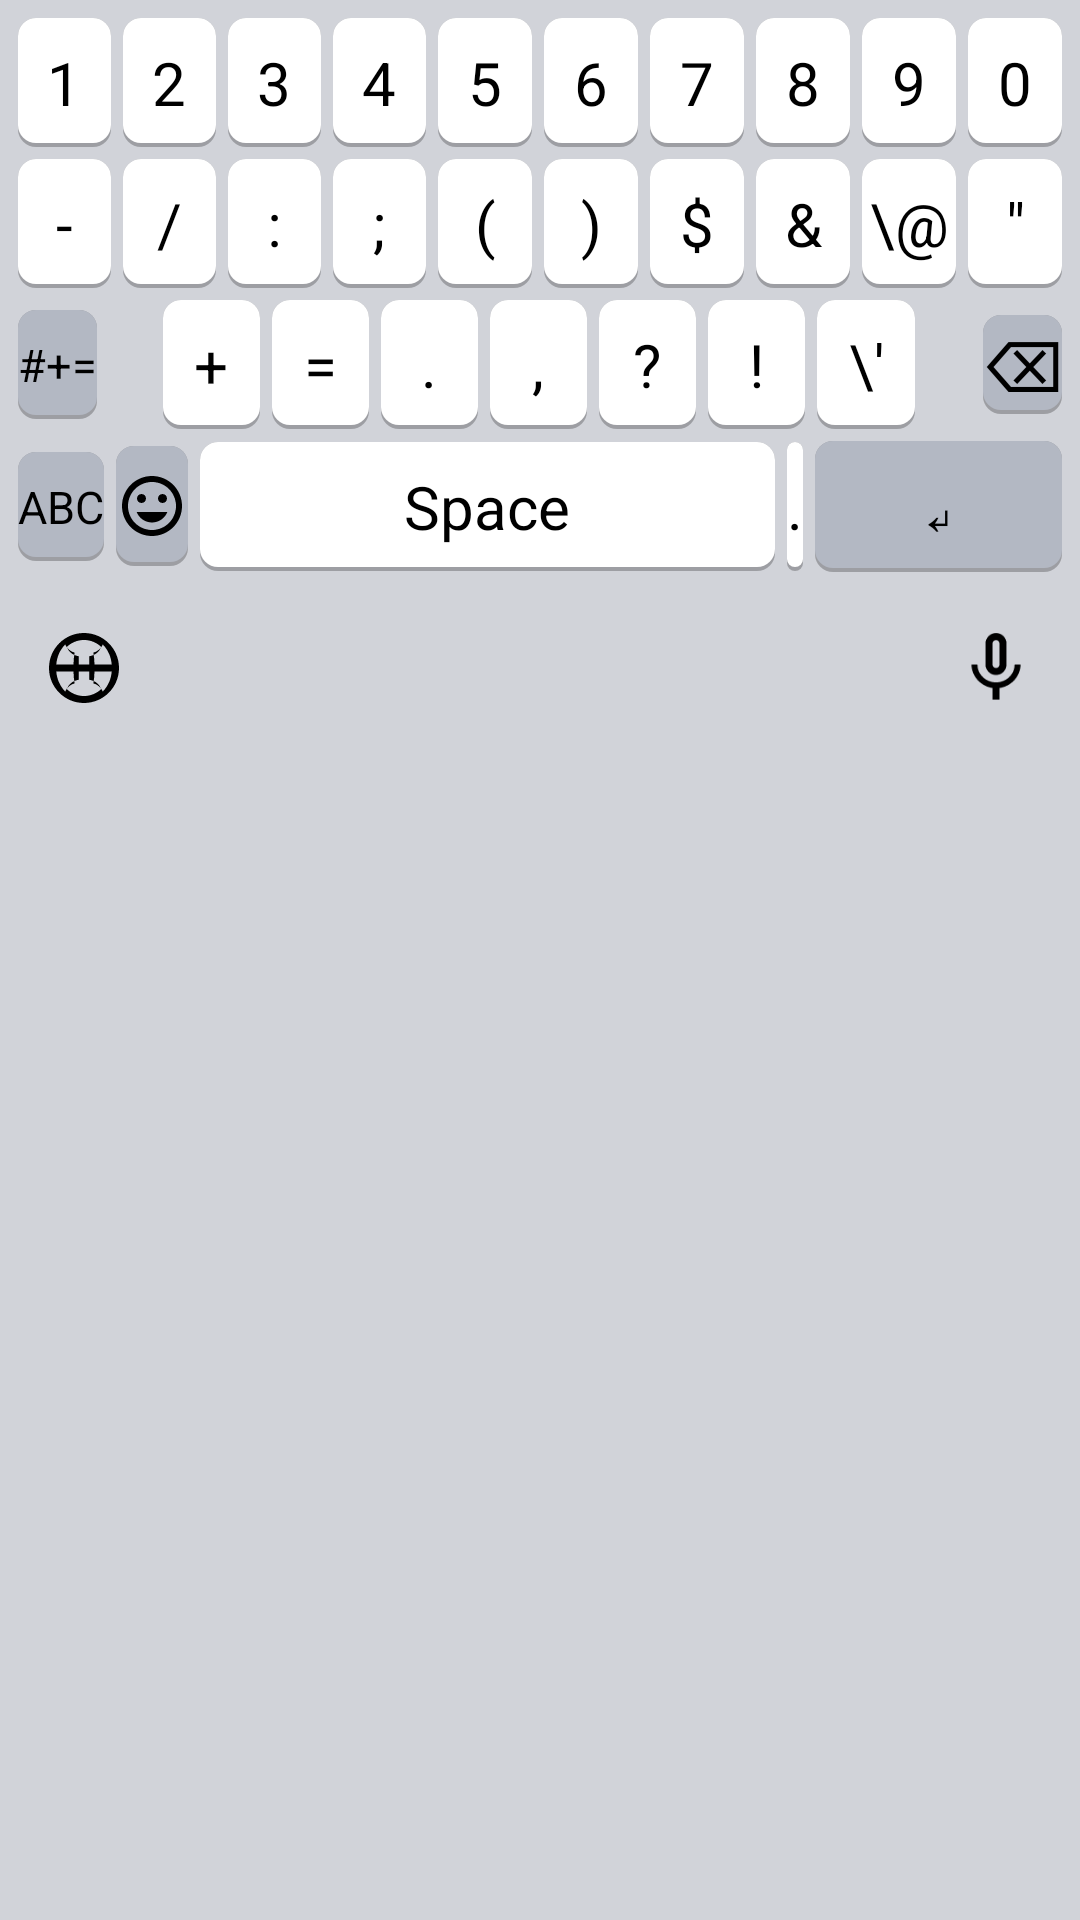

Named icons in this screenshot (1080px x 1920px) and their centers, [x,y]:
emoji: [152,506]
globe: [84,668]
mic: [996,666]
